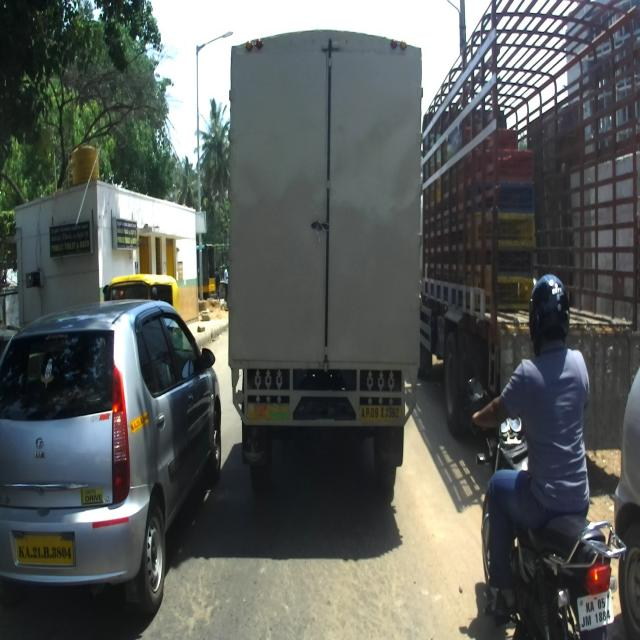Car_TATA: (0, 296, 222, 640)
motorcycle: (465, 373, 626, 640)
truck: (418, 0, 639, 441), (224, 24, 424, 498)
